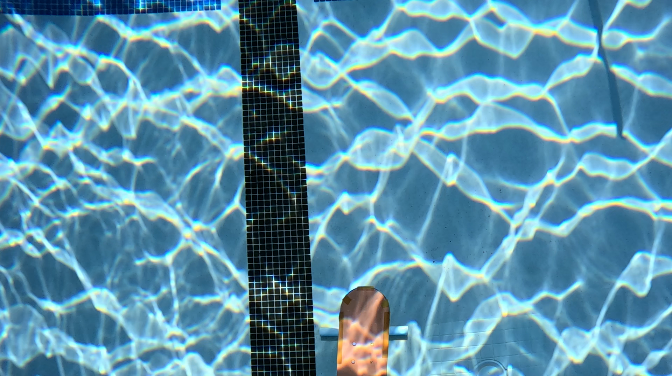pathmarker: (336, 286, 390, 374)
